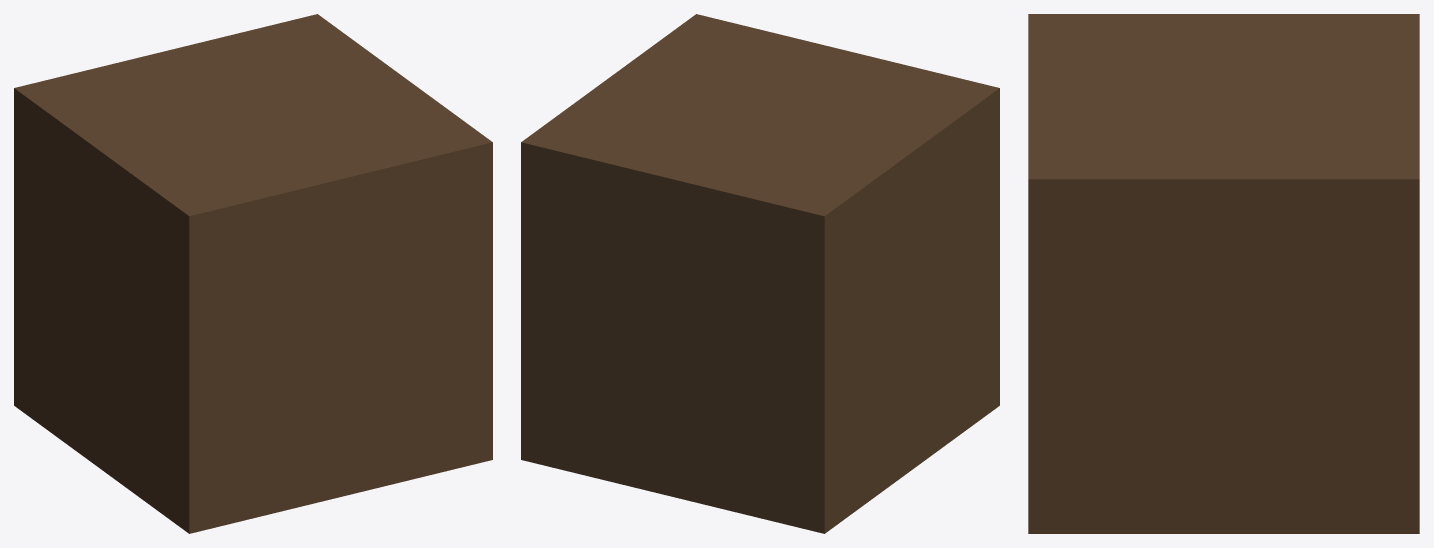
Rendered from millwork_profile.glb.
3 renders of one model, left to right at view 1: azimuth 30°, elevation 25°; view 2: azimuth 150°, elevation 25°; view 3: azimuth 270°, elevation 25°, orthographic. The views are drawn at different scales.
Visible parts, largest first — view 1: WainscotBacking, LiftReveal, ServiceCasing, BeadedTrim, WainscotFrame, DoorCasing, WainscotCap; view 2: BeadedTrim, WainscotBacking, DoorCasing, ServiceCasing, LiftReveal, WainscotFrame, WainscotCap; view 3: BeadedTrim, LiftReveal, ServiceCasing, DoorCasing, WainscotBacking, WainscotFrame, WainscotCap.
Part boxes in pixels (x1=…): WainscotBacking: x1=14, y1=15, x2=492, y2=533; LiftReveal: x1=14, y1=16, x2=492, y2=529; ServiceCasing: x1=14, y1=16, x2=492, y2=509; BeadedTrim: x1=14, y1=14, x2=439, y2=494; WainscotFrame: x1=14, y1=16, x2=492, y2=469; DoorCasing: x1=14, y1=14, x2=492, y2=466; WainscotCap: x1=14, y1=20, x2=444, y2=445; BeadedTrim: x1=521, y1=52, x2=999, y2=533; WainscotBacking: x1=521, y1=14, x2=999, y2=532; DoorCasing: x1=523, y1=53, x2=999, y2=532; ServiceCasing: x1=522, y1=113, x2=999, y2=532; LiftReveal: x1=523, y1=18, x2=999, y2=530; WainscotFrame: x1=528, y1=88, x2=999, y2=527; WainscotCap: x1=527, y1=48, x2=999, y2=523; BeadedTrim: x1=1028, y1=14, x2=1419, y2=533; LiftReveal: x1=1028, y1=14, x2=1419, y2=533; ServiceCasing: x1=1028, y1=14, x2=1419, y2=533; DoorCasing: x1=1028, y1=14, x2=1419, y2=533; WainscotBacking: x1=1028, y1=14, x2=1419, y2=533; WainscotFrame: x1=1028, y1=14, x2=1418, y2=533; WainscotCap: x1=1030, y1=14, x2=1419, y2=533.
Bounding box in the file's own units: 1 × 1 × 1.
